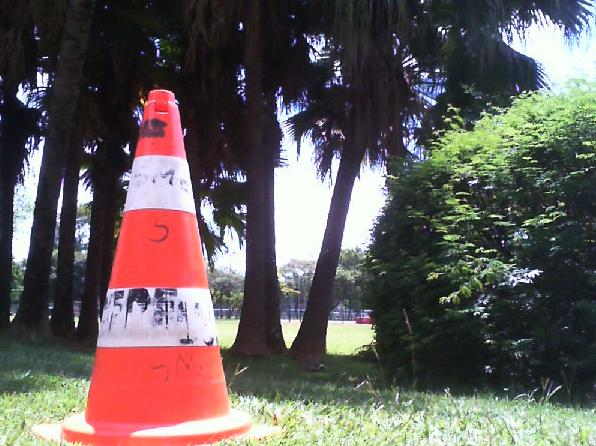0 cone: (29, 90, 282, 446)
